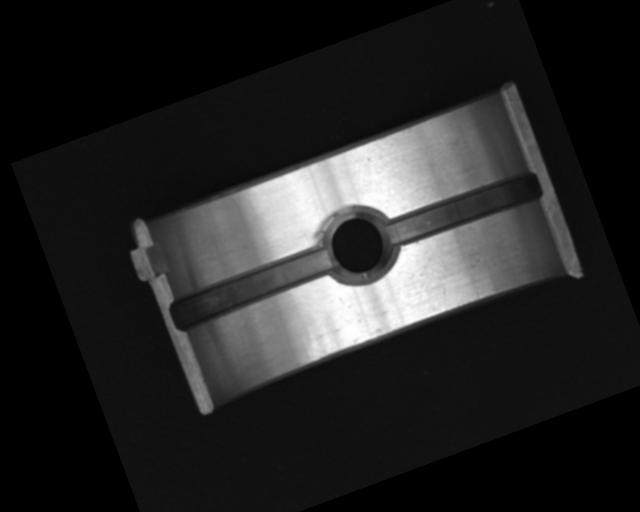gap: (165, 240, 337, 336), (381, 167, 545, 252)
hole: (307, 192, 409, 298)
